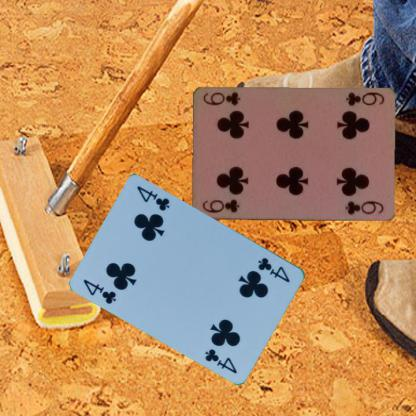4c: (81, 276, 118, 306), (255, 255, 292, 284)
6c: (342, 90, 384, 107), (200, 197, 240, 214)
